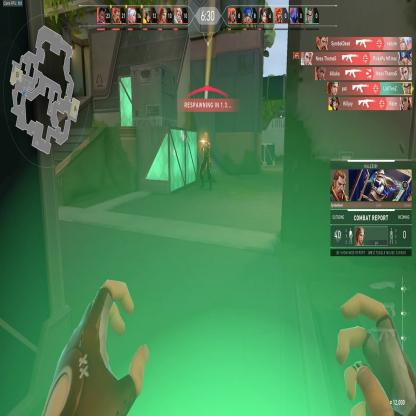enemy: (198, 130, 213, 192)
